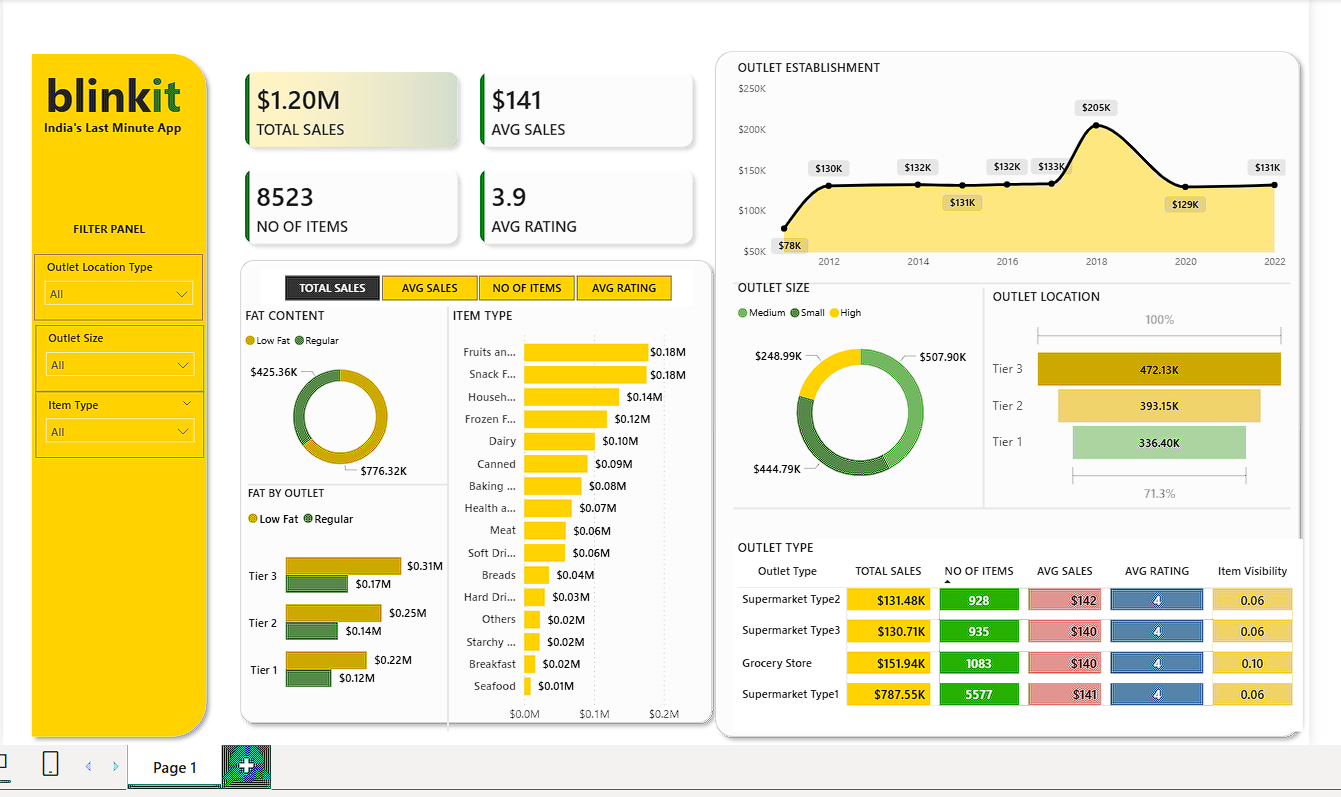

Layout of this report page (visuals, bound fields, positions):
{"tool":"powerbi","page":{"name":"Page 1","canvas":[1400,800],"ordinal":0},"visuals":[{"type":"shape","box":[21,49.5,205.6,750.4],"z":0},{"type":"textbox","box":[39,123.1,187.6,33],"z":1000},{"type":"textbox","box":[21,64.5,193.6,75],"z":2000},{"type":"cardVisual","fields":{"Data":["BlinkIT Grocery Data.TOTAL SALES","BlinkIT Grocery Data.AVG SALES","BlinkIT Grocery Data.NO OF ITEMS","BlinkIT Grocery Data.AVG RATING"]},"box":[230.6,49.6,538.9,242.6],"z":3000},{"type":"shape","box":[245.3,270.8,524.1,514.7],"z":4000},{"type":"donutChart","title":"FAT CONTENT","fields":{"Y":["BlinkIT Grocery Data.TOTAL SALES"],"Category":["BlinkIT Grocery Data.Item Fat Content"]},"box":[254.7,329.8,214.5,191.7],"z":5000},{"type":"slicer","fields":{"Values":["Metrics.Metrics"]},"box":[276.1,289.5,465.1,40.2],"z":6000},{"type":"clusteredBarChart","title":"FAT BY OUTLET","fields":{"Y":["BlinkIT Grocery Data.TOTAL SALES"],"Category":["BlinkIT Grocery Data.Outlet Location Type"],"Series":["BlinkIT Grocery Data.Item Fat Content"]},"box":[257.4,521.5,219.8,244],"z":7000},{"type":"shape","box":[262.7,510.7,214.5,20.1],"z":8000},{"type":"shape","box":[467.8,329.8,18.8,455.8],"z":9000},{"type":"barChart","title":"ITEM TYPE","fields":{"Y":["BlinkIT Grocery Data.TOTAL SALES"],"Category":["BlinkIT Grocery Data.Item Type"]},"box":[477.2,329.8,277.5,455.8],"z":10000},{"type":"shape","box":[754.7,46.9,644.8,753.4],"z":11000},{"type":"lineChart","title":"OUTLET ESTABLISHMENT","fields":{"Y":["BlinkIT Grocery Data.TOTAL SALES"],"Category":["BlinkIT Grocery Data.Outlet Establishment Year"]},"box":[782.8,64.3,597.9,234.6],"z":12000},{"type":"shape","box":[782.8,300.3,597.9,9.4],"z":13000},{"type":"donutChart","title":"OUTLET SIZE","fields":{"Y":["BlinkIT Grocery Data.TOTAL SALES"],"Category":["BlinkIT Grocery Data.Outlet Size"]},"box":[782.8,300.3,273.5,241.3],"z":14000},{"type":"shape","box":[1046.9,309.7,9.4,235.9],"z":15000},{"type":"funnel","title":"OUTLET LOCATION","fields":{"Y":["Sum(BlinkIT Grocery Data.Sales)"],"Category":["BlinkIT Grocery Data.Outlet Location Type"]},"box":[1056.3,309.7,324.4,235.9],"z":16000},{"type":"shape","box":[782.8,541.6,597.9,9.4],"z":17000},{"type":"pivotTable","title":"OUTLET TYPE","fields":{"Rows":["BlinkIT Grocery Data.Outlet Type"],"Values":["BlinkIT Grocery Data.TOTAL SALES","BlinkIT Grocery Data.NO OF ITEMS","BlinkIT Grocery Data.AVG SALES","BlinkIT Grocery Data.AVG RATING","Avg(BlinkIT Grocery Data.Item Visibility)"]},"box":[782.8,579.1,611.3,206.4],"z":18000},{"type":"slicer","fields":{"Values":["BlinkIT Grocery Data.Outlet Location Type"]},"box":[33.5,273.5,181,71],"z":19000},{"type":"slicer","fields":{"Values":["BlinkIT Grocery Data.Outlet Size"]},"box":[34.9,349.9,181,71],"z":20000},{"type":"slicer","fields":{"Values":["BlinkIT Grocery Data.Item Type"]},"box":[34.9,420.9,181,71],"z":21000},{"type":"textbox","box":[52.3,231.9,123.3,29.5],"z":22000}]}

Visuals, with their boxes on the page's 1400x800 design canvas (x1, y1, x2, y2). These are canvas units, not pixel positions in the 1341x797 screenshot, which may show the page scaled, cropped or inside an application window:
shape: 21,50,227,800
textbox: 39,123,227,156
textbox: 21,64,215,140
cardVisual - BlinkIT Grocery Data.TOTAL SALES x BlinkIT Grocery Data.AVG SALES: 231,50,770,292
shape: 245,271,769,786
"FAT CONTENT" donutChart: 255,330,469,522
slicer - Metrics.Metrics: 276,290,741,330
"FAT BY OUTLET" clusteredBarChart: 257,522,477,766
shape: 263,511,477,531
shape: 468,330,487,786
"ITEM TYPE" barChart: 477,330,755,786
shape: 755,47,1400,800
"OUTLET ESTABLISHMENT" lineChart: 783,64,1381,299
shape: 783,300,1381,310
"OUTLET SIZE" donutChart: 783,300,1056,542
shape: 1047,310,1056,546
"OUTLET LOCATION" funnel: 1056,310,1381,546
shape: 783,542,1381,551
"OUTLET TYPE" pivotTable: 783,579,1394,786
slicer - BlinkIT Grocery Data.Outlet Location Type: 34,274,214,344
slicer - BlinkIT Grocery Data.Outlet Size: 35,350,216,421
slicer - BlinkIT Grocery Data.Item Type: 35,421,216,492
textbox: 52,232,176,261
